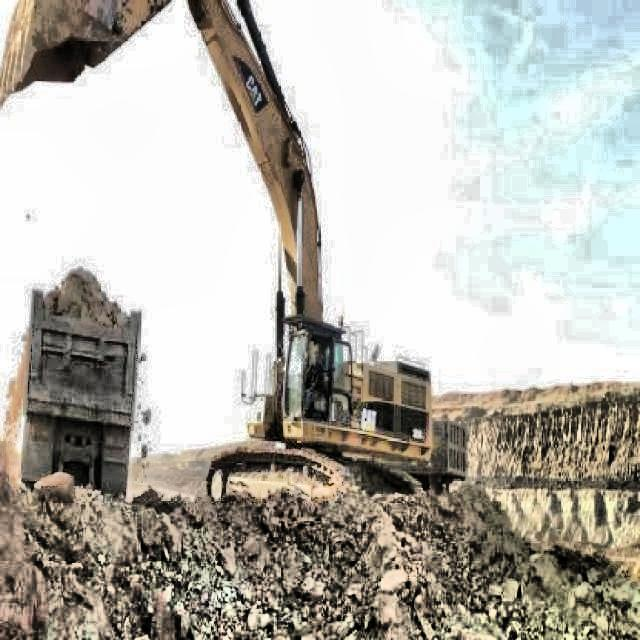dump_truck: (17, 284, 142, 498), (434, 408, 469, 498)
excavator: (1, 0, 433, 495)
